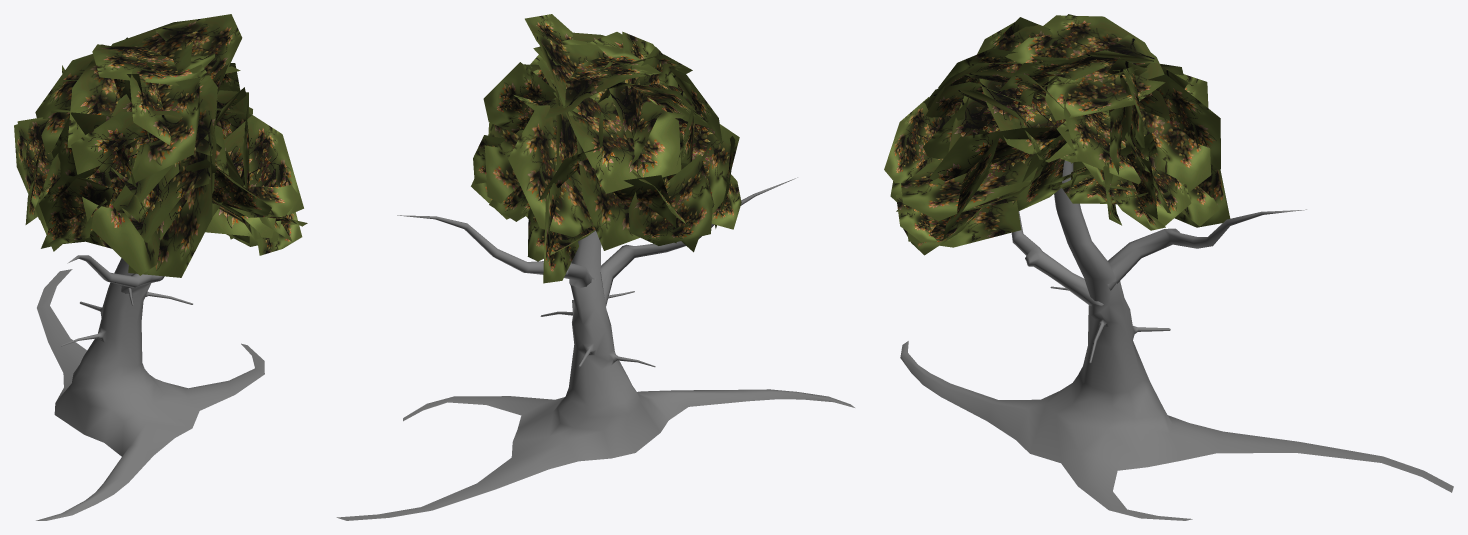
File: ekatree_lod0.fbx
The picture shows the model from 3 angles, left to right: view 1: azimuth 30°, elevation 25°; view 2: azimuth 150°, elevation 25°; view 3: azimuth 270°, elevation 25°; orthographic projection. The views are drawn at different scales.
Parts seen in each view (by area): view 1: Default_Layer; view 2: Default_Layer; view 3: Default_Layer.
Part boxes in pixels (box(x1,y1,x2,y2)): Default_Layer: box(14, 14, 307, 520); Default_Layer: box(336, 14, 854, 520); Default_Layer: box(884, 14, 1453, 520).
Size of the model in its own units: 865 by 947 by 1154.
